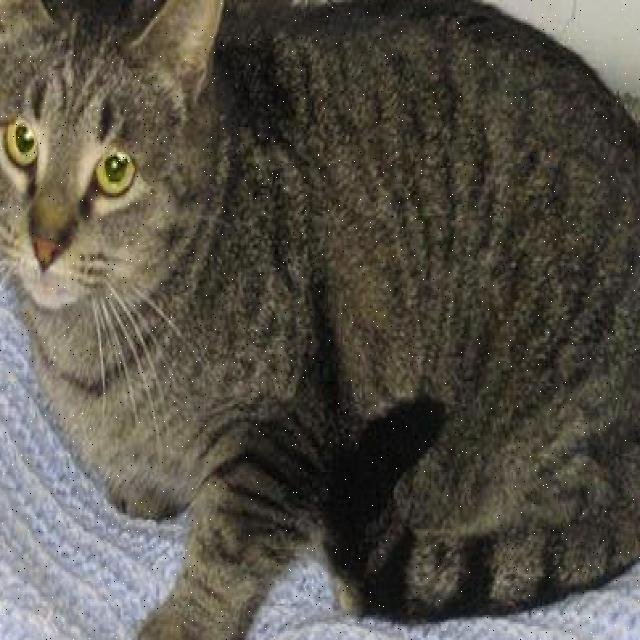Cat: (0, 0, 229, 327)
